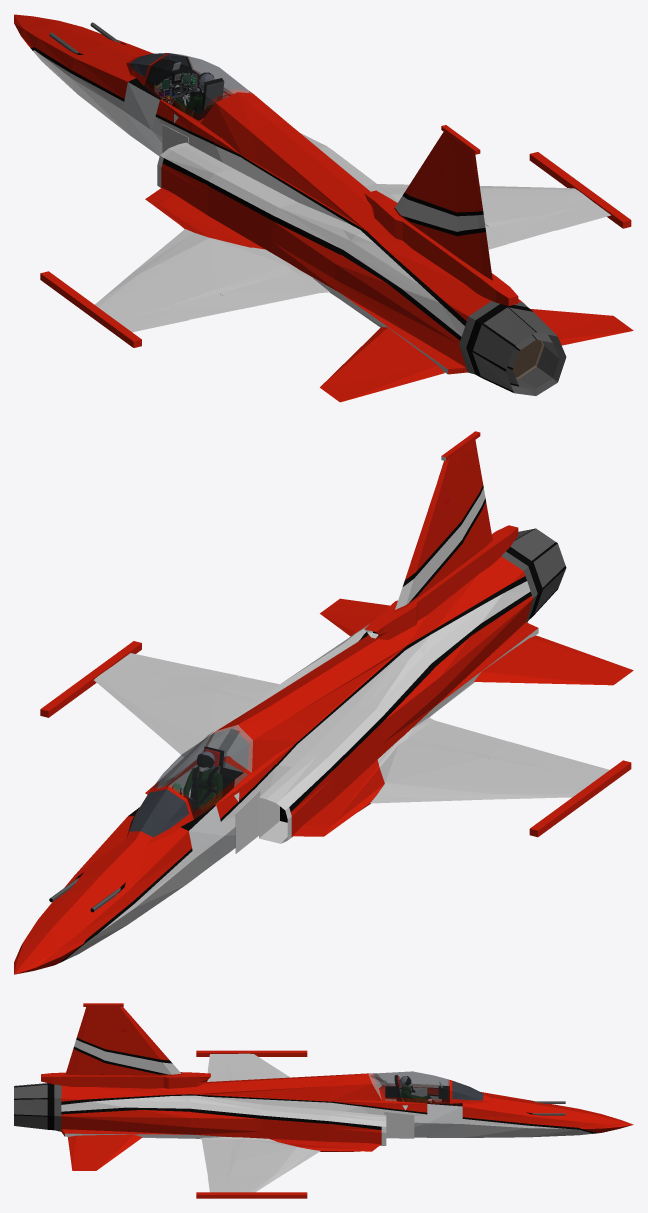
Rendered from F20ANG.obj.
3 renders of one model, top to bottom at view 1: azimuth 30°, elevation 25°; view 2: azimuth 150°, elevation 25°; view 3: azimuth 270°, elevation 25°, orthographic. The views are drawn at different scales.
Parts seen in each view (by area): view 1: ShapeIndexedFaceSet_ShapeIndexedFaceSet.001, ShapeIndexedFaceSet.001_ShapeIndexedFaceSet.002, ShapeIndexedFaceSet.091_ShapeIndexedFaceSet.092, ShapeIndexedFaceSet.067_ShapeIndexedFaceSet.068, ShapeIndexedFaceSet.082_ShapeIndexedFaceSet.083, ShapeIndexedFaceSet.002_ShapeIndexedFaceSet.003, ShapeIndexedFaceSet.088_ShapeIndexedFaceSet.089, ShapeIndexedFaceSet.071_ShapeIndexedFaceSet.072, ShapeIndexedFaceSet.064_ShapeIndexedFaceSet.065, ShapeIndexedFaceSet.075_ShapeIndexedFaceSet.076, ShapeIndexedFaceSet.008_ShapeIndexedFaceSet.009, ShapeIndexedFaceSet.080_ShapeIndexedFaceSet.081 (+14 smaller); view 2: ShapeIndexedFaceSet_ShapeIndexedFaceSet.001, ShapeIndexedFaceSet.001_ShapeIndexedFaceSet.002, ShapeIndexedFaceSet.091_ShapeIndexedFaceSet.092, ShapeIndexedFaceSet.067_ShapeIndexedFaceSet.068, ShapeIndexedFaceSet.088_ShapeIndexedFaceSet.089, ShapeIndexedFaceSet.002_ShapeIndexedFaceSet.003, ShapeIndexedFaceSet.008_ShapeIndexedFaceSet.009, ShapeIndexedFaceSet.071_ShapeIndexedFaceSet.072, ShapeIndexedFaceSet.070_ShapeIndexedFaceSet.071, ShapeIndexedFaceSet.082_ShapeIndexedFaceSet.083, ShapeIndexedFaceSet.097_ShapeIndexedFaceSet, ShapeIndexedFaceSet.075_ShapeIndexedFaceSet.076 (+10 smaller); view 3: ShapeIndexedFaceSet_ShapeIndexedFaceSet.001, ShapeIndexedFaceSet.001_ShapeIndexedFaceSet.002, ShapeIndexedFaceSet.091_ShapeIndexedFaceSet.092, ShapeIndexedFaceSet.002_ShapeIndexedFaceSet.003, ShapeIndexedFaceSet.064_ShapeIndexedFaceSet.065, ShapeIndexedFaceSet.088_ShapeIndexedFaceSet.089, ShapeIndexedFaceSet.008_ShapeIndexedFaceSet.009, ShapeIndexedFaceSet.082_ShapeIndexedFaceSet.083, ShapeIndexedFaceSet.070_ShapeIndexedFaceSet.071, ShapeIndexedFaceSet.092_ShapeIndexedFaceSet.093, ShapeIndexedFaceSet.076_ShapeIndexedFaceSet.077, ShapeIndexedFaceSet.074_ShapeIndexedFaceSet.075 (+7 smaller).
Boxes of the visible parts, left/top/right/bottom form: ShapeIndexedFaceSet_ShapeIndexedFaceSet.001: left=14, top=14, right=631, bottom=374; ShapeIndexedFaceSet.001_ShapeIndexedFaceSet.002: left=33, top=50, right=610, bottom=374; ShapeIndexedFaceSet.091_ShapeIndexedFaceSet.092: left=364, top=125, right=518, bottom=305; ShapeIndexedFaceSet.067_ShapeIndexedFaceSet.068: left=320, top=327, right=444, bottom=402; ShapeIndexedFaceSet.082_ShapeIndexedFaceSet.083: left=472, top=307, right=566, bottom=395; ShapeIndexedFaceSet.002_ShapeIndexedFaceSet.003: left=30, top=42, right=466, bottom=340; ShapeIndexedFaceSet.088_ShapeIndexedFaceSet.089: left=148, top=53, right=248, bottom=114; ShapeIndexedFaceSet.071_ShapeIndexedFaceSet.072: left=97, top=229, right=209, bottom=308; ShapeIndexedFaceSet.064_ShapeIndexedFaceSet.065: left=530, top=309, right=633, bottom=345; ShapeIndexedFaceSet.075_ShapeIndexedFaceSet.076: left=220, top=271, right=320, bottom=309; ShapeIndexedFaceSet.008_ShapeIndexedFaceSet.009: left=122, top=82, right=228, bottom=156; ShapeIndexedFaceSet.080_ShapeIndexedFaceSet.081: left=505, top=332, right=559, bottom=388; ShapeIndexedFaceSet_ShapeIndexedFaceSet.001: left=14, top=556, right=631, bottom=974; ShapeIndexedFaceSet.001_ShapeIndexedFaceSet.002: left=64, top=581, right=609, bottom=960; ShapeIndexedFaceSet.091_ShapeIndexedFaceSet.092: left=364, top=431, right=518, bottom=639; ShapeIndexedFaceSet.067_ShapeIndexedFaceSet.068: left=474, top=635, right=633, bottom=685; ShapeIndexedFaceSet.088_ShapeIndexedFaceSet.089: left=152, top=728, right=248, bottom=810; ShapeIndexedFaceSet.002_ShapeIndexedFaceSet.003: left=49, top=576, right=531, bottom=962; ShapeIndexedFaceSet.008_ShapeIndexedFaceSet.009: left=168, top=725, right=252, bottom=883; ShapeIndexedFaceSet.071_ShapeIndexedFaceSet.072: left=370, top=783, right=576, bottom=803; ShapeIndexedFaceSet.070_ShapeIndexedFaceSet.071: left=97, top=675, right=204, bottom=756; ShapeIndexedFaceSet.082_ShapeIndexedFaceSet.083: left=510, top=528, right=566, bottom=613; ShapeIndexedFaceSet.097_ShapeIndexedFaceSet: left=129, top=789, right=189, bottom=837; ShapeIndexedFaceSet.075_ShapeIndexedFaceSet.076: left=407, top=720, right=508, bottom=754; ShapeIndexedFaceSet_ShapeIndexedFaceSet.001: left=61, top=1050, right=633, bottom=1198; ShapeIndexedFaceSet.001_ShapeIndexedFaceSet.002: left=61, top=1053, right=592, bottom=1192; ShapeIndexedFaceSet.091_ShapeIndexedFaceSet.092: left=41, top=1003, right=210, bottom=1088; ShapeIndexedFaceSet.002_ShapeIndexedFaceSet.003: left=61, top=1094, right=597, bottom=1133; ShapeIndexedFaceSet.064_ShapeIndexedFaceSet.065: left=68, top=1134, right=142, bottom=1170; ShapeIndexedFaceSet.088_ShapeIndexedFaceSet.089: left=373, top=1071, right=448, bottom=1098; ShapeIndexedFaceSet.008_ShapeIndexedFaceSet.009: left=368, top=1073, right=462, bottom=1137; ShapeIndexedFaceSet.082_ShapeIndexedFaceSet.083: left=14, top=1083, right=47, bottom=1129; ShapeIndexedFaceSet.070_ShapeIndexedFaceSet.071: left=245, top=1147, right=320, bottom=1191; ShapeIndexedFaceSet.092_ShapeIndexedFaceSet.093: left=75, top=1039, right=180, bottom=1074; ShapeIndexedFaceSet.076_ShapeIndexedFaceSet.077: left=66, top=1043, right=105, bottom=1074; ShapeIndexedFaceSet.074_ShapeIndexedFaceSet.075: left=202, top=1139, right=233, bottom=1162.
Size of the model in its own units: 80.4 by 33.06 by 146.
